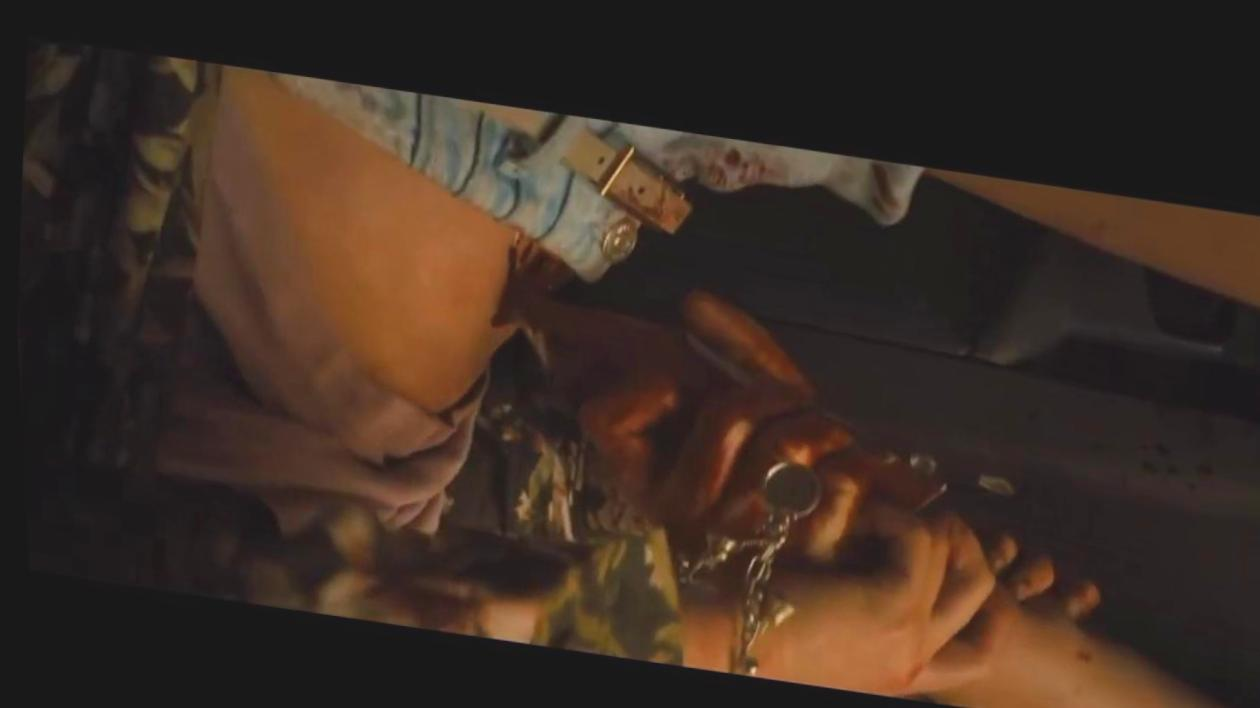Fire: (479, 231, 705, 510), (715, 399, 817, 519), (699, 287, 794, 373), (590, 145, 691, 222), (1124, 405, 1205, 461), (709, 139, 765, 179), (869, 153, 912, 205), (1070, 636, 1079, 646)
